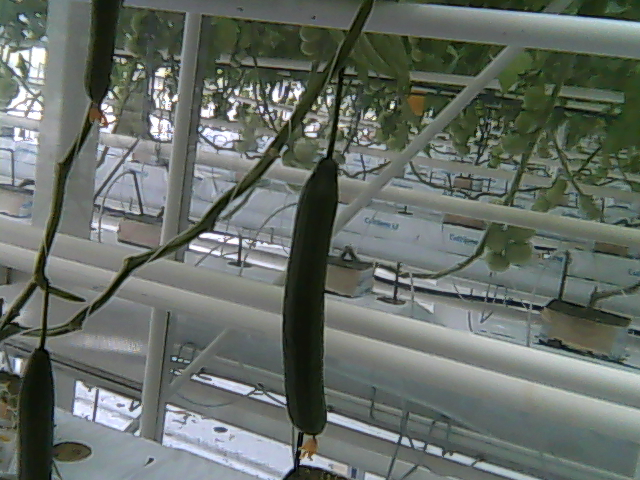concombre: (278, 144, 345, 463), (13, 340, 62, 480), (82, 1, 124, 124)
